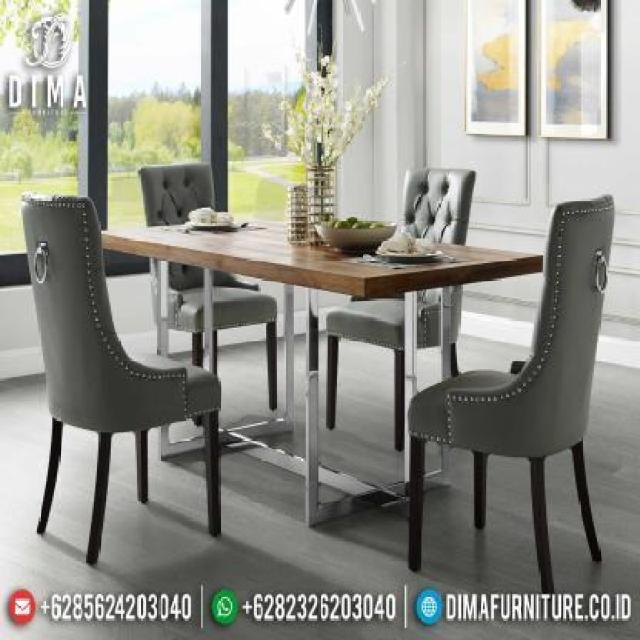tables: (98, 218, 544, 528)
